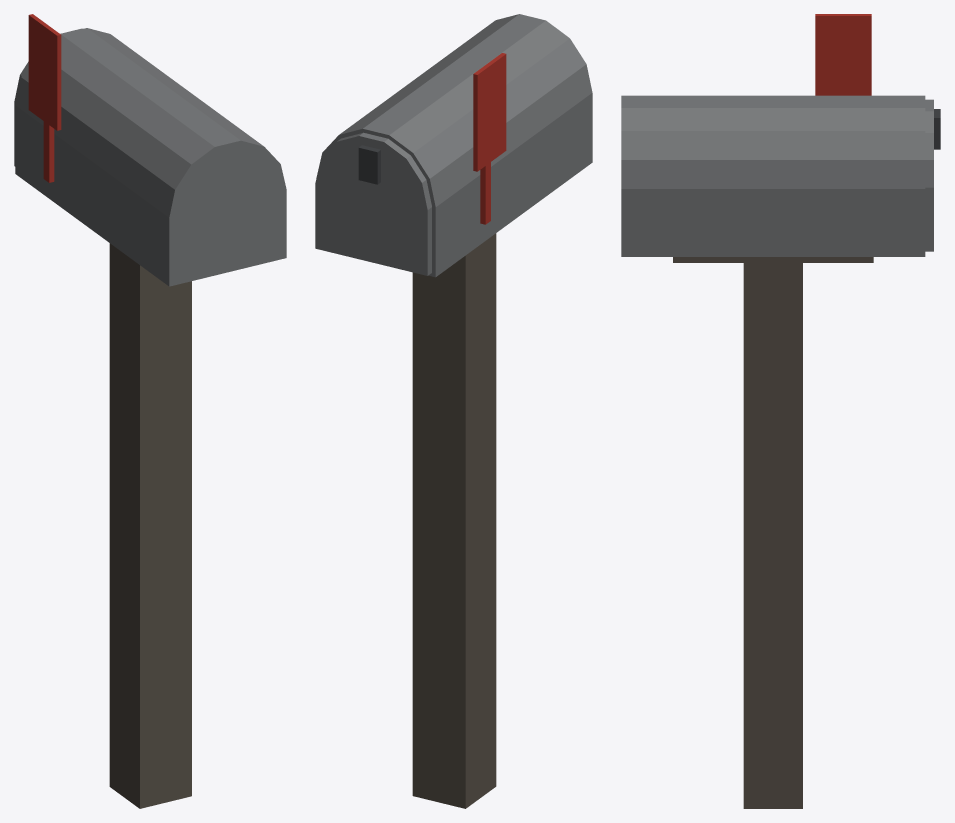
File: mailbox-classic.glb
The picture shows the model from 3 angles, left to right: view 1: azimuth 30°, elevation 25°; view 2: azimuth 150°, elevation 25°; view 3: azimuth 270°, elevation 25°; orthographic projection. The views are drawn at different scales.
Parts seen in each view (by area): view 1: MailboxClassic, Flag; view 2: MailboxClassic, Flag; view 3: MailboxClassic, Flag.
Part boxes in pixels (x1,y1,x2,y2): MailboxClassic: (14, 28, 286, 808); Flag: (28, 14, 61, 182); MailboxClassic: (315, 14, 592, 808); Flag: (473, 53, 506, 224); MailboxClassic: (621, 95, 940, 808); Flag: (815, 14, 871, 95).
Bounding box in the file's own units: 0.2235 × 1.24 × 0.478.
